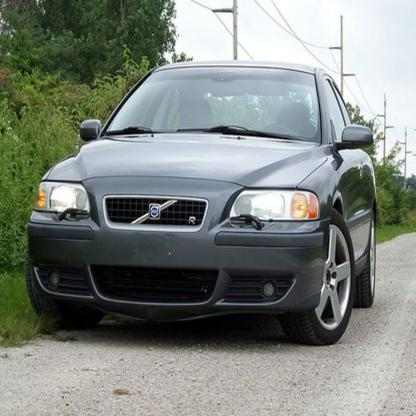Car: (25, 60, 378, 354)
